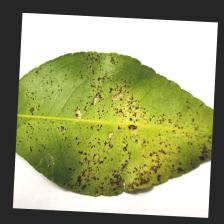canker: (77, 78, 161, 171)
